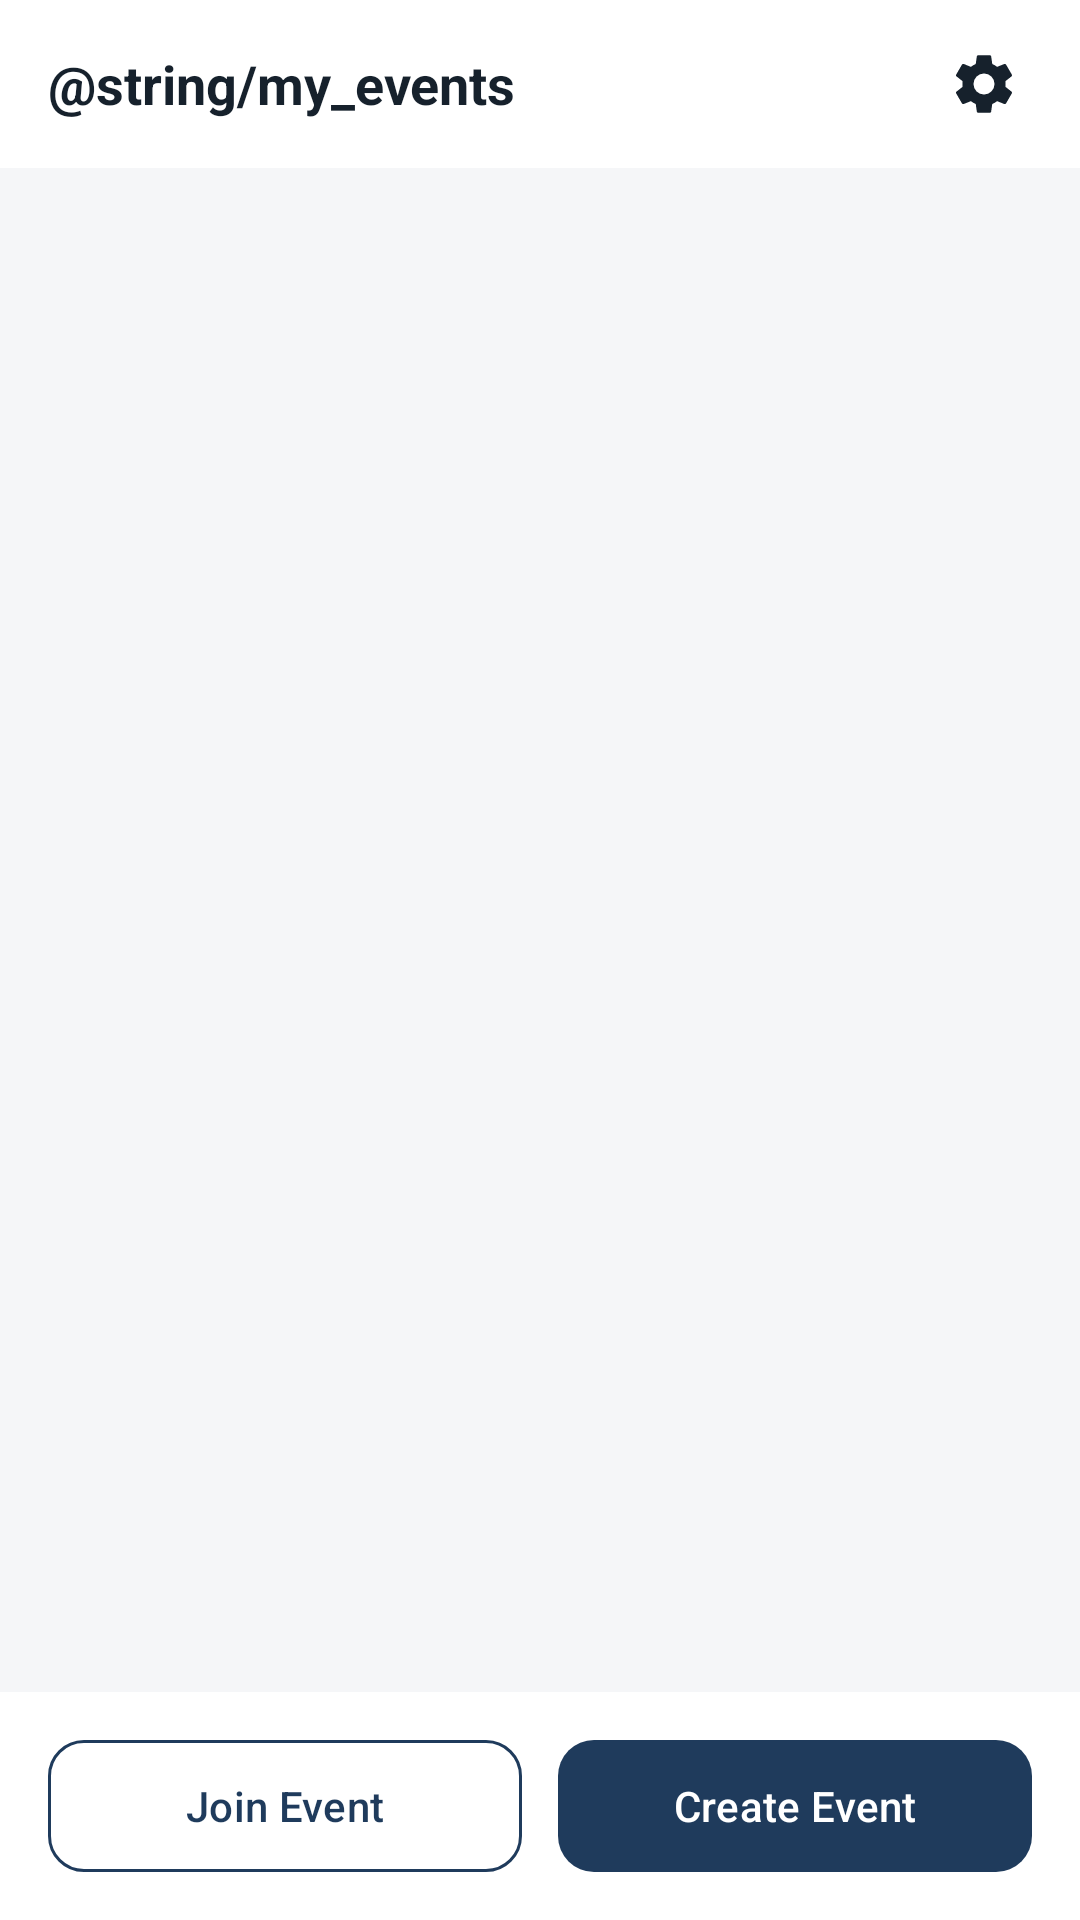

Icon bounding boxes for this 1080*1920 phone screenshot, format bbox=(x1, y1, x2, y2):
Settings: bbox=(956, 55, 1012, 113)
